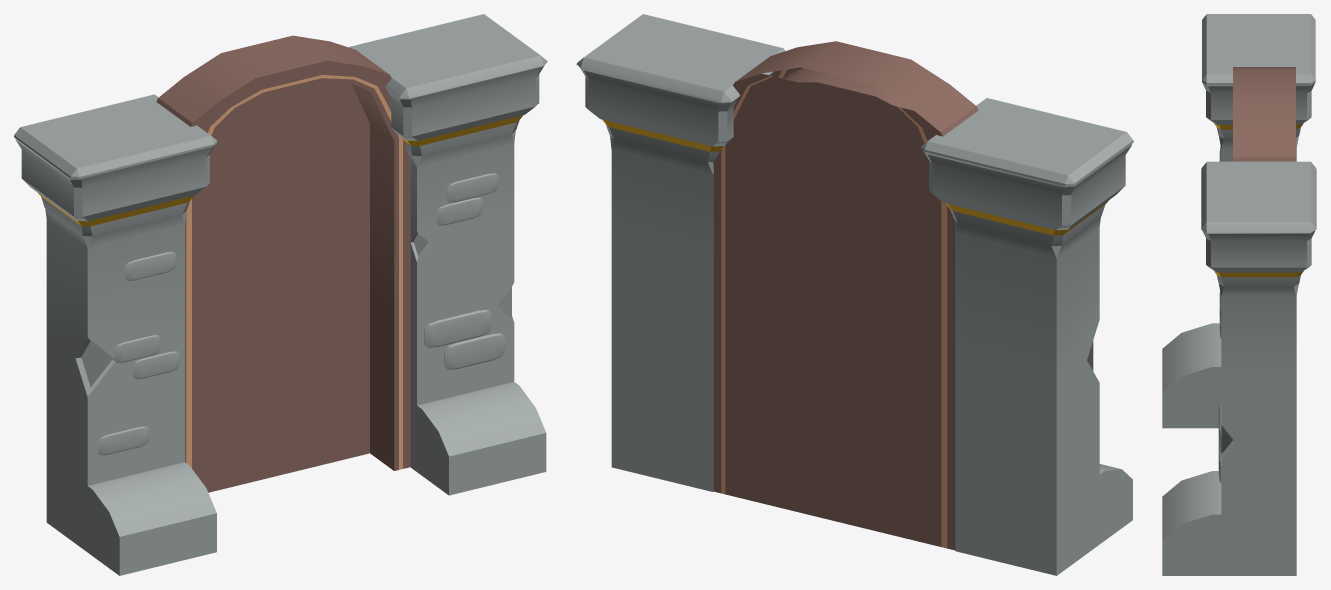
Rendered from EndPorte.fbx.
3 views of the same model, side by side, from view 1: azimuth 30°, elevation 25°; view 2: azimuth 150°, elevation 25°; view 3: azimuth 270°, elevation 25° (orthographic). The views are drawn at different scales.
Parts seen in each view (by area): view 1: Cube.055; view 2: Cube.055; view 3: Cube.055.
Boxes of the visible parts, left/top/right/bottom form: Cube.055: left=14, top=14, right=547, bottom=575; Cube.055: left=576, top=14, right=1133, bottom=575; Cube.055: left=1162, top=14, right=1316, bottom=575.
Size of the model in its own units: 388 by 332 by 118.
